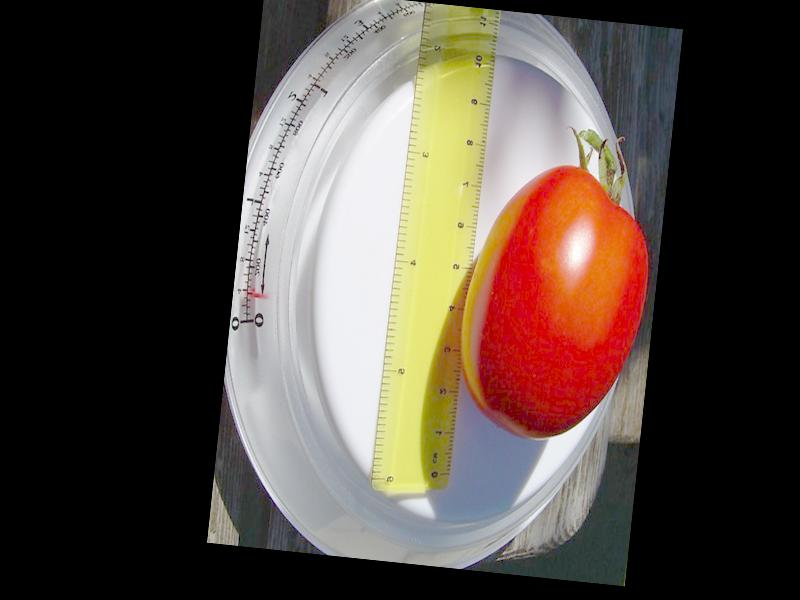Tomato: (446, 154, 659, 447)
